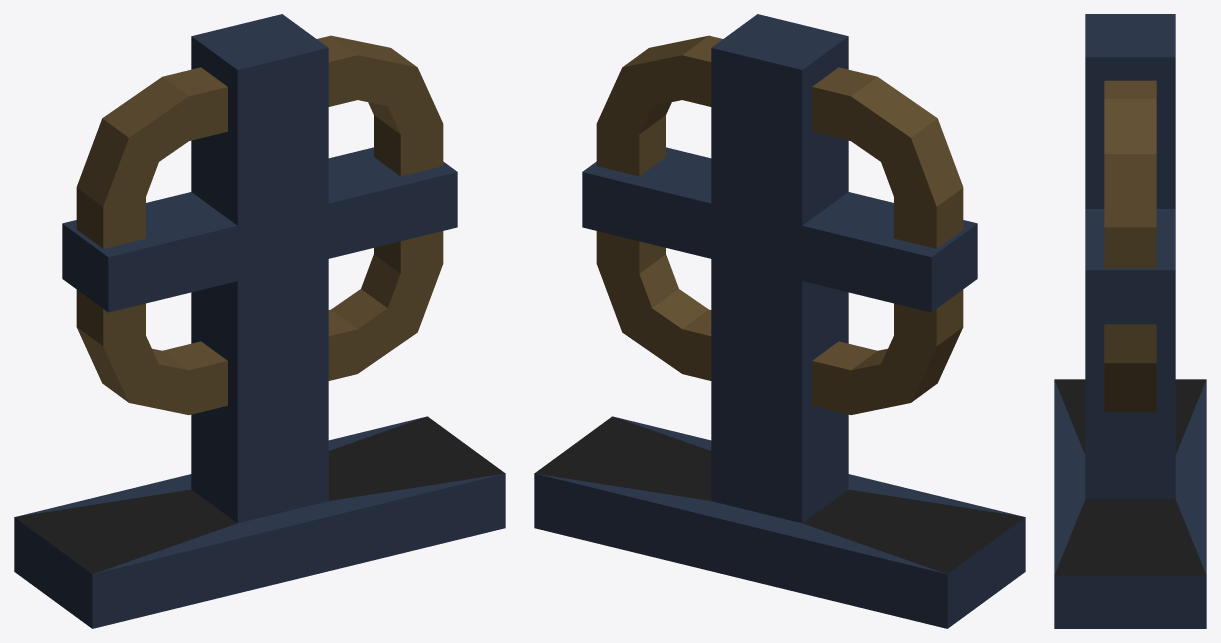
The model's file is Grave_6_MY.fbx.
3 renders of one model, left to right at view 1: azimuth 30°, elevation 25°; view 2: azimuth 150°, elevation 25°; view 3: azimuth 270°, elevation 25°, orthographic. The views are drawn at different scales.
Visible parts, largest first — view 1: Cube.002; view 2: Cube.002; view 3: Cube.002.
Boxes of the visible parts, x1,y1,x2,y2 form: Cube.002: [14, 14, 505, 628]; Cube.002: [534, 14, 1025, 628]; Cube.002: [1054, 14, 1206, 628].
Size of the model in its own units: 96.34 by 113 by 31.55.
